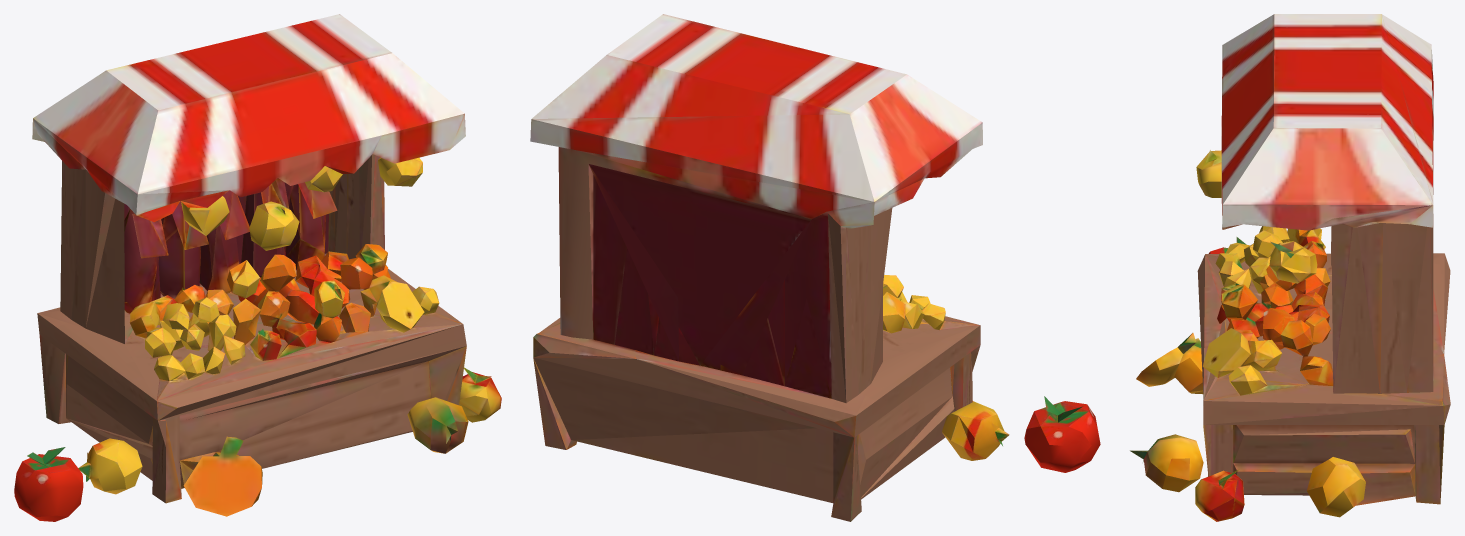
The model's file is market_stall_fruit.glb.
The picture shows the model from 3 angles, left to right: view 1: azimuth 30°, elevation 25°; view 2: azimuth 150°, elevation 25°; view 3: azimuth 270°, elevation 25°; orthographic projection. The views are drawn at different scales.
Size of the model in its own units: 1.9 by 1.39 by 1.11.
Materials: 1 (1 with a texture image).
